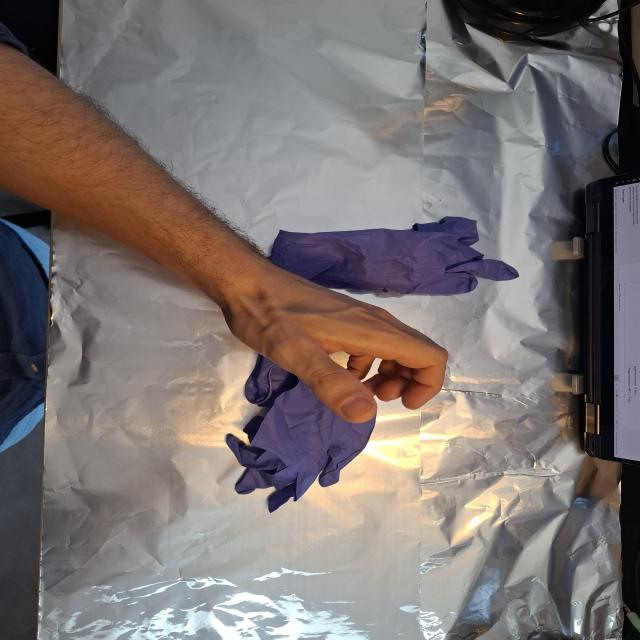glove_off: (216, 264, 454, 424)
